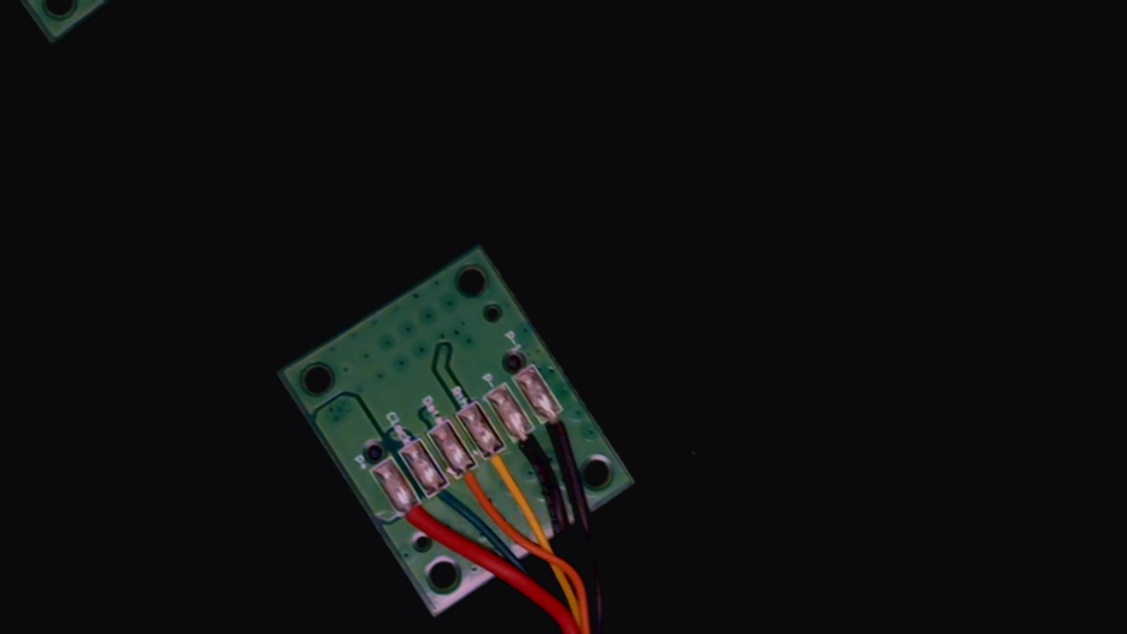Black: (500, 410, 561, 480)
Black1: (530, 393, 587, 458)
Green: (413, 461, 472, 528)
Orange: (444, 449, 503, 517)
Red: (387, 482, 446, 549)
Yellow: (473, 430, 535, 501)
